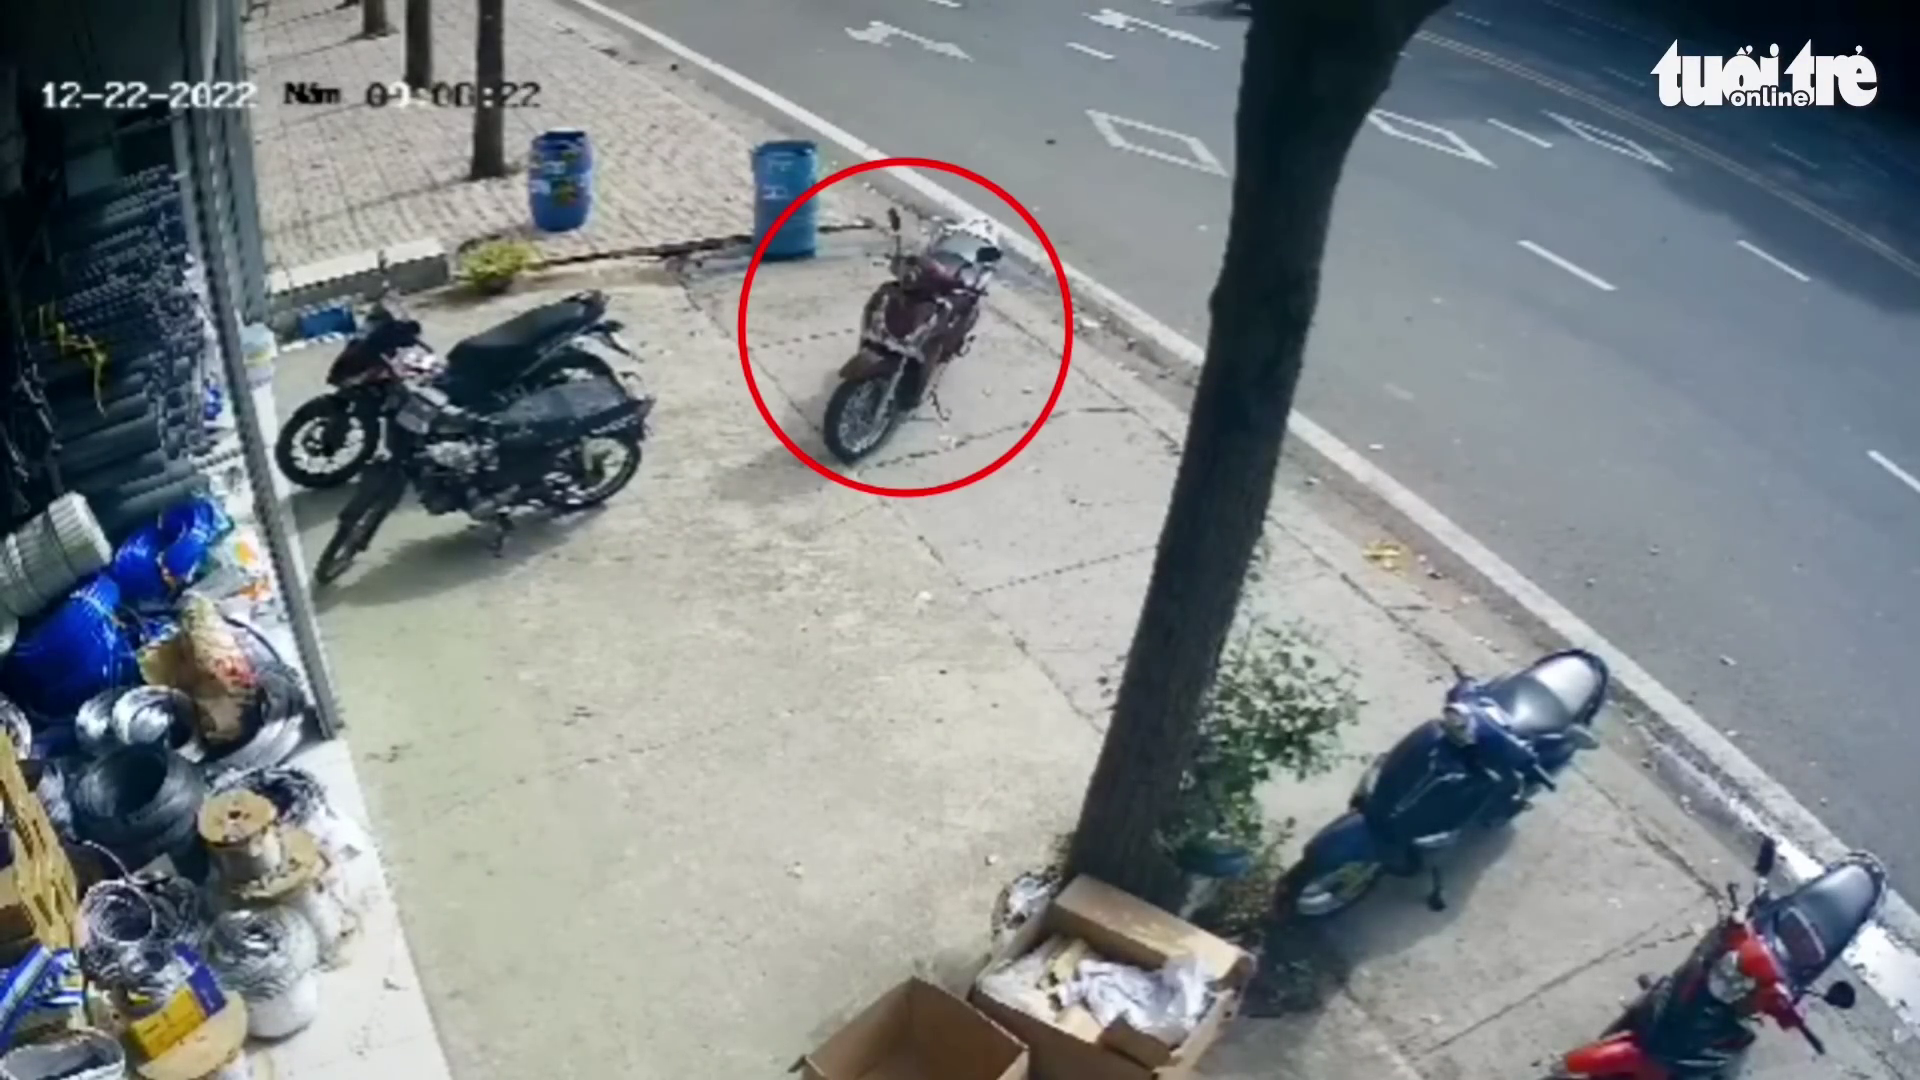Motorcycle: (276, 276, 655, 588), (1286, 647, 1611, 919), (1547, 835, 1888, 1077), (822, 204, 1005, 462)
